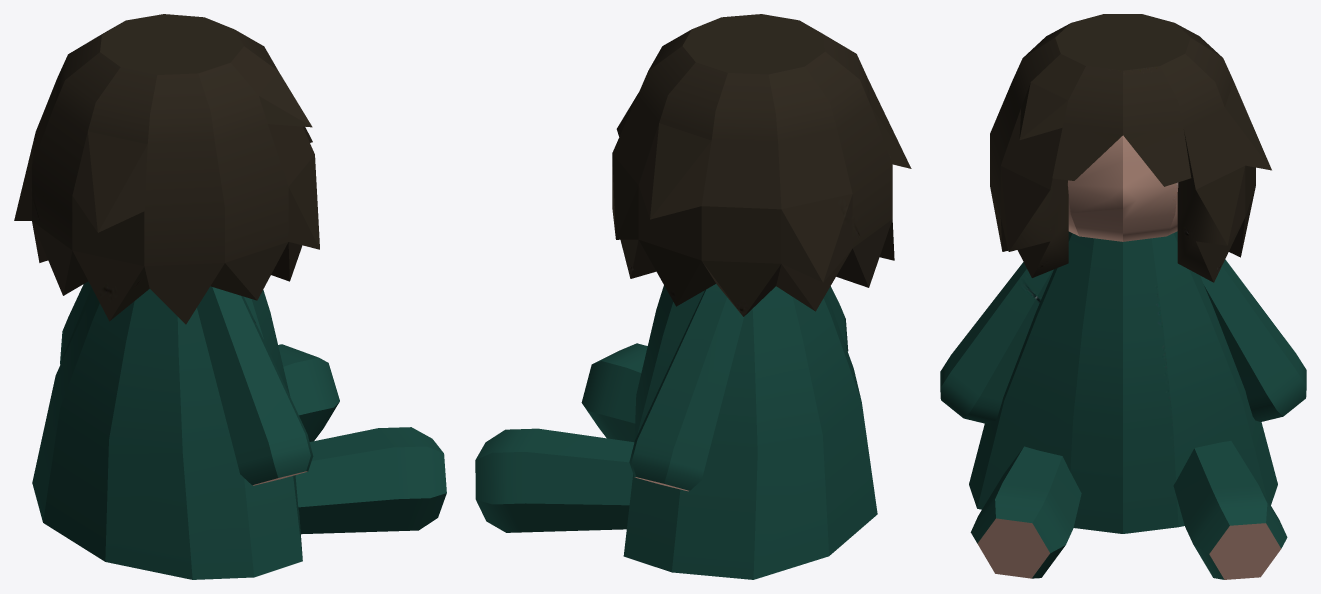
The model's file is doll.fbx.
The picture shows the model from 3 angles, left to right: view 1: azimuth 30°, elevation 25°; view 2: azimuth 150°, elevation 25°; view 3: azimuth 270°, elevation 25°; orthographic projection. The views are drawn at different scales.
Visible parts, largest first — view 1: pCylinder2, body, leg_r, arm_r, leg_l, arm_l; view 2: pCylinder2, body, leg_l, arm_l, leg_r; view 3: body, pCylinder2, leg_l, leg_r, arm_r, pCylinder1, arm_l.
Part boxes in pixels (<box>): pCylinder2: <box>14,14,319,324</box>; body: <box>32,289,302,579</box>; leg_r: <box>295,427,446,534</box>; arm_r: <box>197,286,313,485</box>; leg_l: <box>278,344,339,441</box>; arm_l: <box>60,281,93,364</box>; pCylinder2: <box>612,14,911,316</box>; body: <box>623,285,877,579</box>; leg_l: <box>475,428,634,532</box>; arm_l: <box>629,284,743,491</box>; leg_r: <box>581,343,647,441</box>; body: <box>969,231,1277,533</box>; pCylinder2: <box>990,14,1271,282</box>; leg_l: <box>1173,441,1287,579</box>; leg_r: <box>970,446,1081,578</box>; arm_r: <box>940,262,1053,423</box>; pCylinder1: <box>1067,135,1178,241</box>; arm_l: <box>1200,259,1306,421</box>.
Size of the model in its own units: 3.51 by 4.85 by 3.57.
